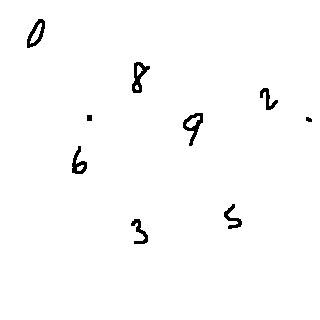.: (79, 107, 106, 129), (300, 110, 315, 131)
0: (23, 14, 48, 53)
2: (251, 85, 285, 115)
3: (128, 213, 154, 252)
5: (219, 197, 250, 236)
6: (68, 144, 91, 179)
8: (127, 55, 153, 95)
9: (180, 103, 211, 161)
